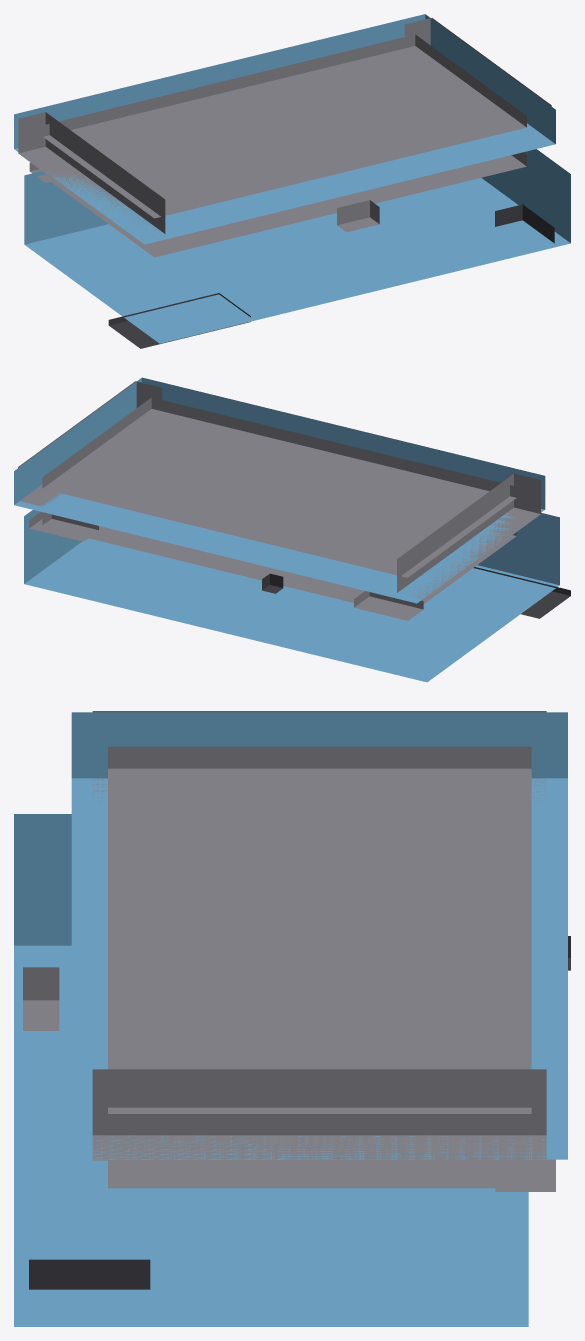
File: chassis.gltf
The picture shows the model from 3 angles, top to bottom: view 1: azimuth 30°, elevation 25°; view 2: azimuth 150°, elevation 25°; view 3: azimuth 270°, elevation 25°; orthographic projection. The views are drawn at different scales.
Visible parts, largest first — view 1: chassis; view 2: chassis; view 3: chassis.
Boxes of the visible parts, x1=… form: chassis: x1=14, y1=14, x2=570, y2=348; chassis: x1=14, y1=377, x2=570, y2=682; chassis: x1=14, y1=711, x2=570, y2=1326.
Bounding box in the file's own units: 0.155 × 0.044 × 0.092.
